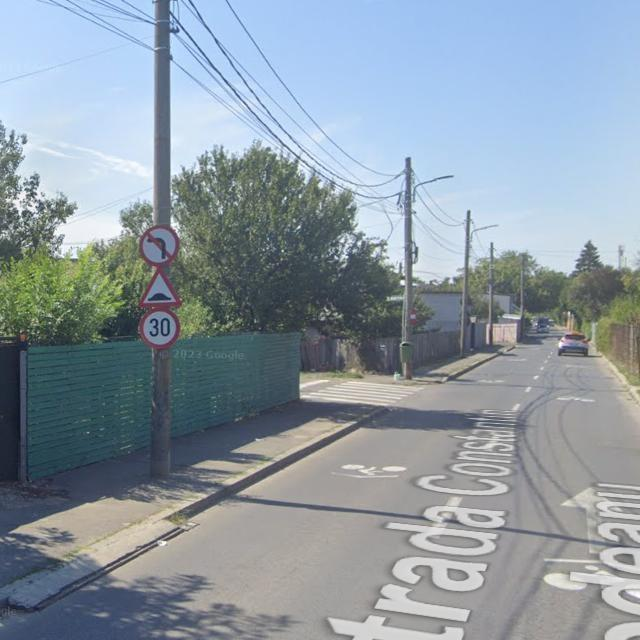forb_speed_over_30: (139, 307, 181, 349)
